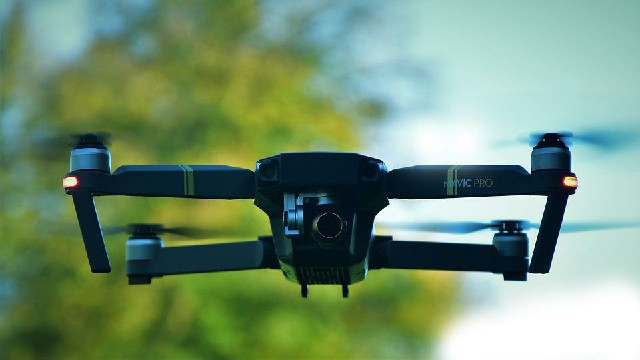maybay_khongnguoilai: (43, 125, 570, 291)
